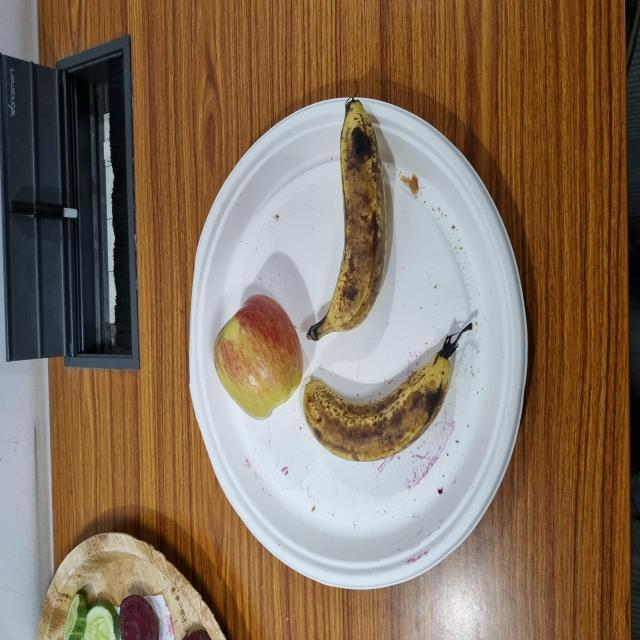apple: (164, 285, 264, 408)
banana: (224, 410, 406, 525), (133, 405, 232, 613)
